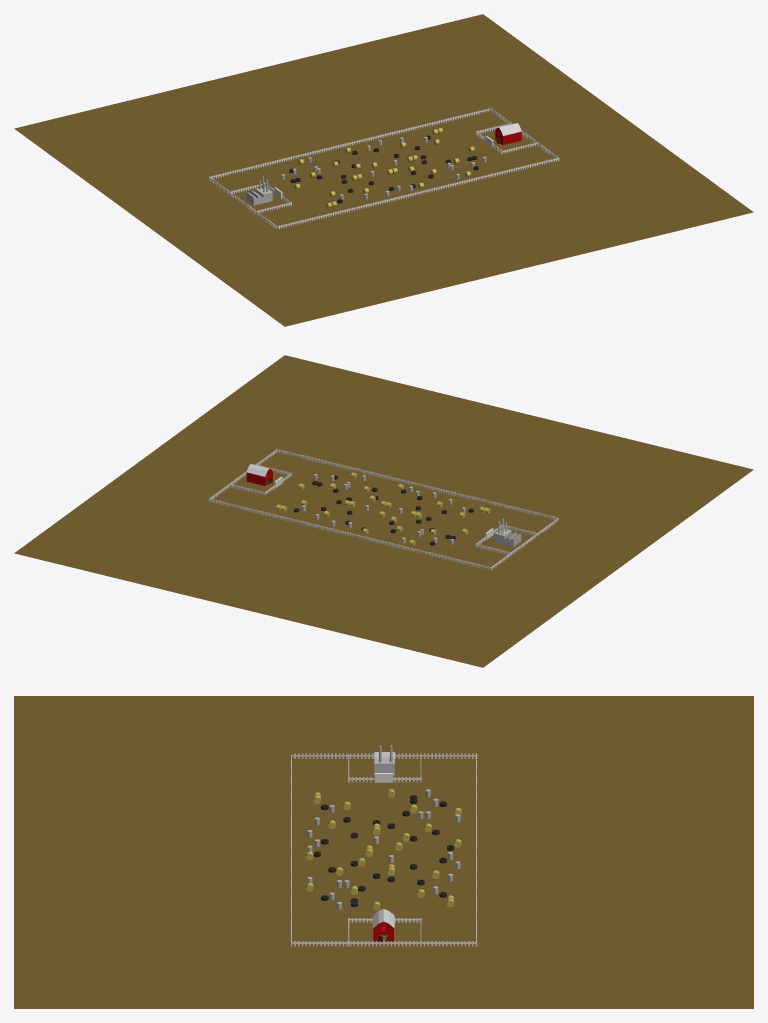
The model's file is Map3.fbx.
3 views of the same model, one above another, from view 1: azimuth 30°, elevation 25°; view 2: azimuth 150°, elevation 25°; view 3: azimuth 270°, elevation 25° (orthographic). The views are drawn at different scales.
Visible parts, largest first — view 1: Terrain, Barrieres, Obstacles; view 2: Terrain, Barrieres, Obstacles; view 3: Terrain, Obstacles, Barrieres, Ferme.
Part boxes in pixels (<box>): Terrain: <box>14,14,753,326</box>; Barrieres: <box>209,107,559,229</box>; Obstacles: <box>281,128,486,208</box>; Terrain: <box>14,355,753,667</box>; Barrieres: <box>208,449,558,570</box>; Obstacles: <box>276,472,490,545</box>; Terrain: <box>14,696,753,1008</box>; Obstacles: <box>306,789,461,910</box>; Barrieres: <box>291,753,477,946</box>; Ferme: <box>372,908,394,942</box>.
Size of the model in its own units: 200 by 9.78 by 200.
